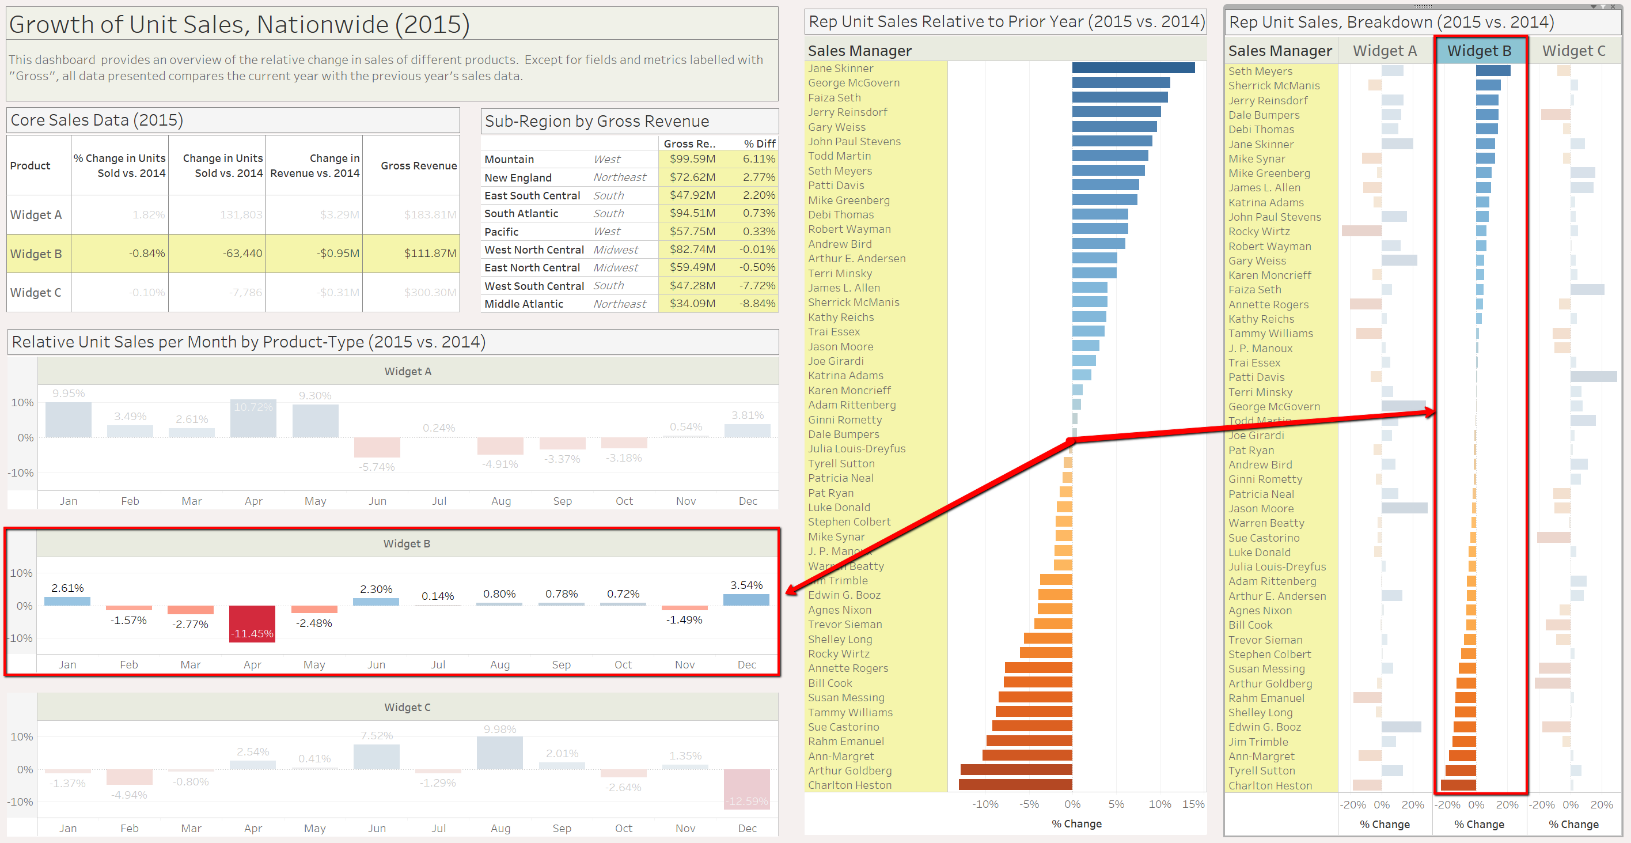

The page's visual inventory and layout, read from the dashboard file:
{"tool":"tableau","page":{"name":"Growth of Unit Sales, Nationwide (2015)","canvas":[2849,1495],"ordinal":0},"visuals":[{"type":"title","box":[21,20,1342,58]},{"type":"worksheet","title":" Rep Unit Sales Relative to Prior Year (2015 vs. 2014)","mark":"Automatic","rows":["Year","Sales Manager"],"box":[1408,24,699,1435]},{"type":"worksheet","title":" Rep Unit Sales, Breakdown (2015 vs. 2014)","mark":"Automatic","rows":["Year","Sales Manager"],"cols":["Product"],"box":[2138,25,689,1434]},{"type":"text","box":[21,66,1342,119]},{"type":"worksheet","title":" Core Sales Data (2015)","mark":"Automatic","rows":["Year","Product"],"box":[22,195,788,356]},{"type":"worksheet","title":" Sub-Region by Gross Revenue","mark":"Automatic","rows":["Sub-Region","Region","Year"],"box":[846,197,518,355]},{"type":"worksheet","title":" Relative Unit Sales per Month by Product-Type (2015 vs. 2014)","mark":"Automatic","cols":["Product","Year","Month"],"box":[24,580,1340,313]},{"type":"worksheet","title":"Sheet 16","mark":"Automatic","cols":["Product","Year","Month"],"box":[22,927,1340,250]},{"type":"worksheet","title":"Sheet 17","mark":"Automatic","cols":["Product","Year","Month"],"box":[23,1211,1340,250]}]}

Visuals, with their boxes in screenshot pixels (x1, y1, x2, y2), scaled from the page's 2849x1495 canvas onto the 1631x843 screenshot:
title: region(12, 11, 780, 44)
" Rep Unit Sales Relative to Prior Year (2015 vs. 2014)" worksheet: region(806, 14, 1206, 823)
" Rep Unit Sales, Breakdown (2015 vs. 2014)" worksheet: region(1224, 14, 1618, 823)
text: region(12, 37, 780, 104)
" Core Sales Data (2015)" worksheet: region(13, 110, 464, 311)
" Sub-Region by Gross Revenue" worksheet: region(484, 111, 781, 311)
" Relative Unit Sales per Month by Product-Type (2015 vs. 2014)" worksheet: region(14, 327, 781, 504)
"Sheet 16" worksheet: region(13, 523, 780, 664)
"Sheet 17" worksheet: region(13, 683, 780, 824)
